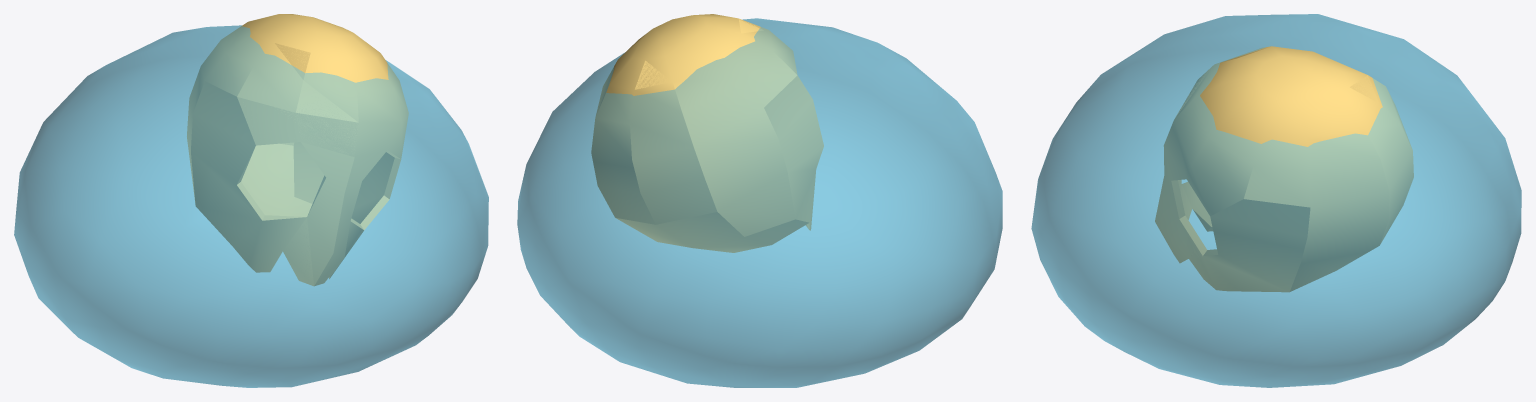
Rendered from slime.fbx.
The picture shows the model from 3 angles, left to right: view 1: azimuth 30°, elevation 25°; view 2: azimuth 150°, elevation 25°; view 3: azimuth 270°, elevation 25°; orthographic projection. The views are drawn at different scales.
Parts seen in each view (by area): view 1: Slime, SKULL; view 2: Slime, SKULL; view 3: Slime, SKULL.
Boxes of the visible parts, bbox=[...] form: Slime: bbox=[14, 25, 488, 387]; SKULL: bbox=[187, 14, 408, 286]; Slime: bbox=[517, 18, 1002, 387]; SKULL: bbox=[591, 14, 823, 252]; Slime: bbox=[1031, 14, 1521, 387]; SKULL: bbox=[1155, 46, 1413, 292].
Size of the model in its own units: 406 by 277 by 405.
